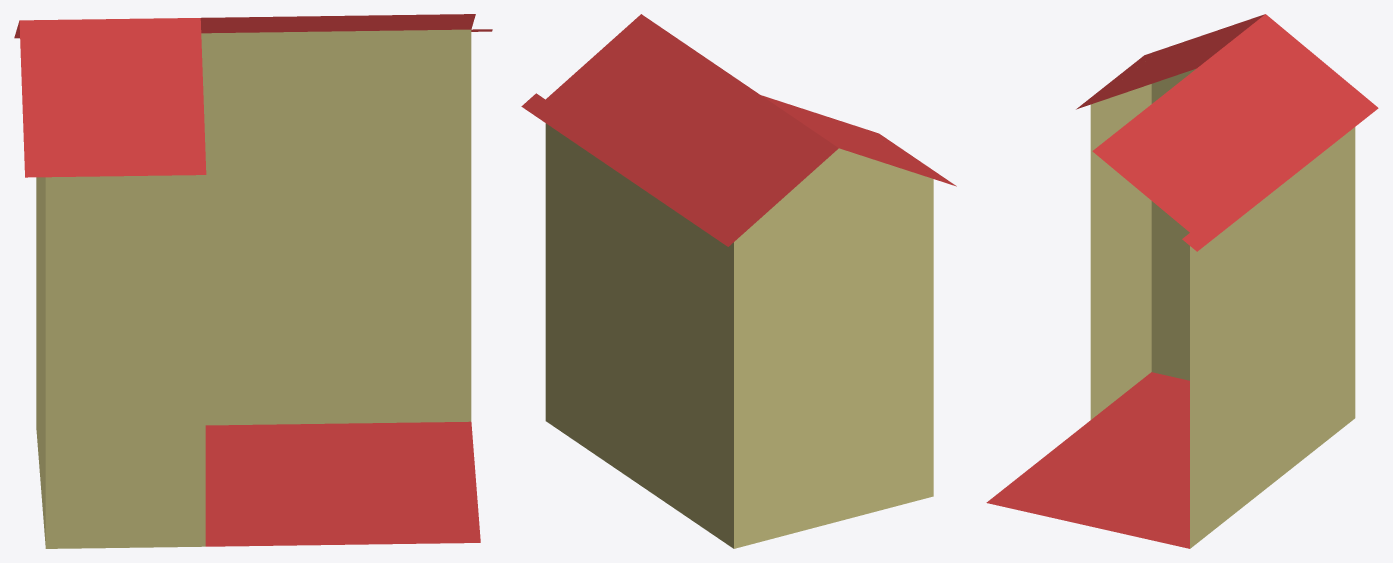
The picture shows the model from 3 angles, left to right: view 1: azimuth 30°, elevation 25°; view 2: azimuth 150°, elevation 25°; view 3: azimuth 270°, elevation 25°; orthographic projection. The views are drawn at different scales.
Bounding box in the file's own units: 13.49 × 11.39 × 12.02.
